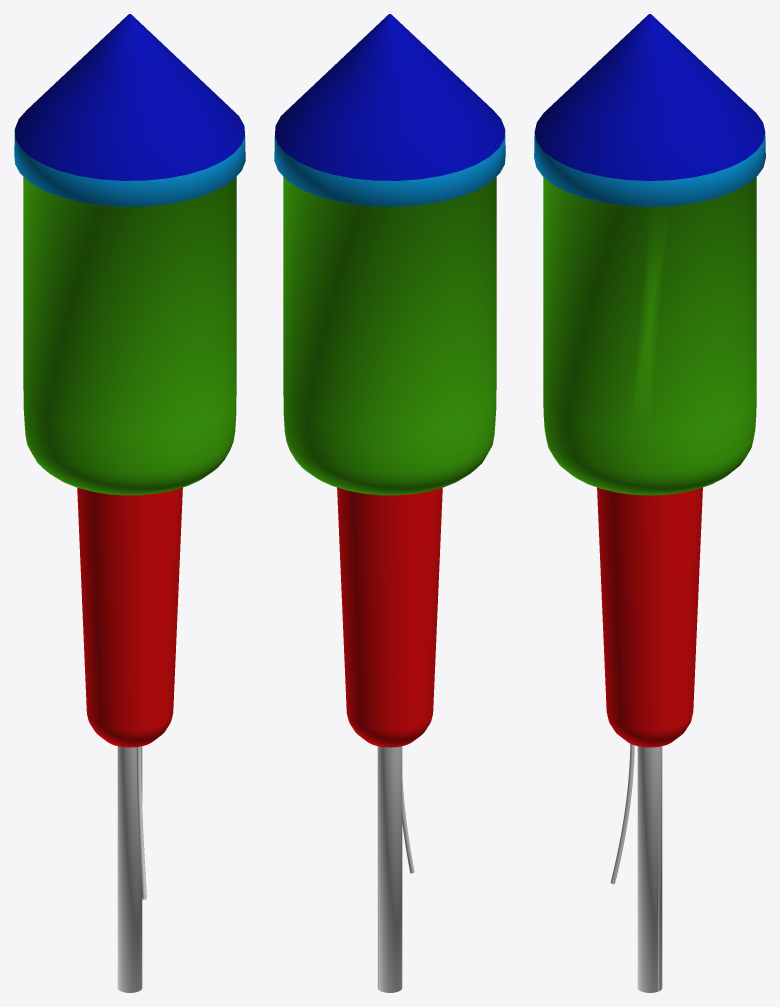
3 renders of one model, left to right at view 1: azimuth 30°, elevation 25°; view 2: azimuth 150°, elevation 25°; view 3: azimuth 270°, elevation 25°, orthographic.
Visible parts, largest first — view 1: Roket1.001; view 2: Roket1.001; view 3: Roket1.001.
Part boxes in pixels (<box>): Roket1.001: <box>14,14,245,992</box>; Roket1.001: <box>274,14,505,992</box>; Roket1.001: <box>534,14,765,992</box>.
Size of the model in its own units: 204 by 943 by 204.
